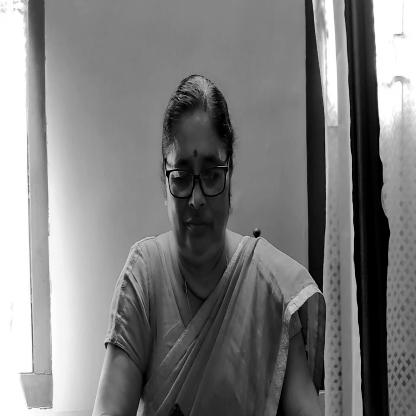Normal: (151, 76, 239, 269)
